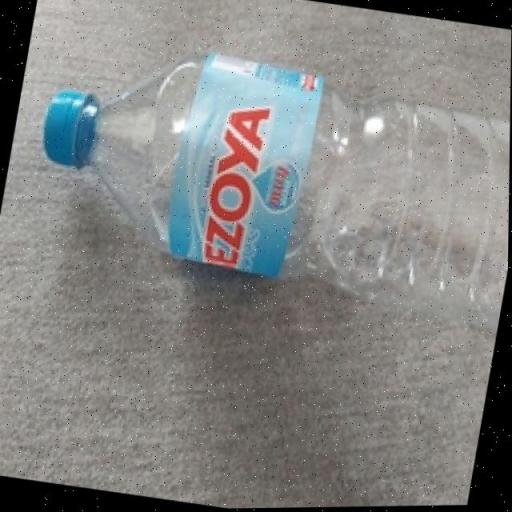plastic: (4, 18, 512, 345)
